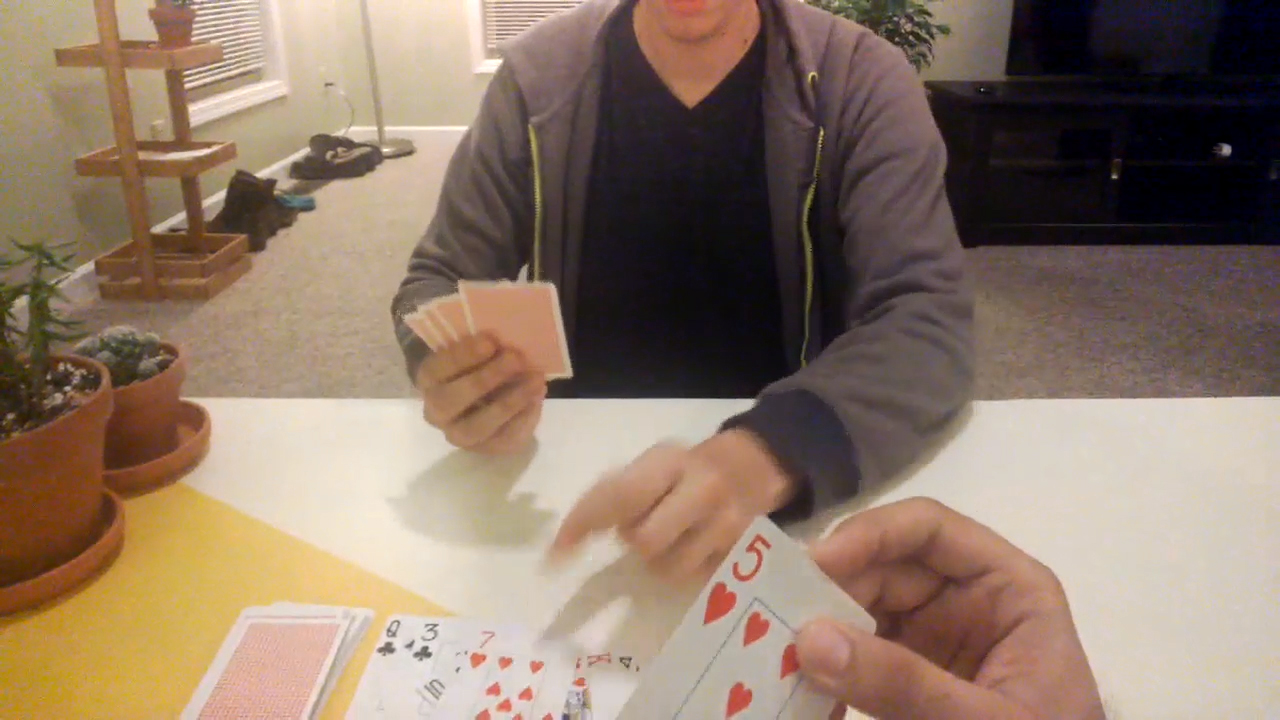hand: (790, 504, 1111, 718), (558, 429, 789, 580), (417, 338, 545, 454)
